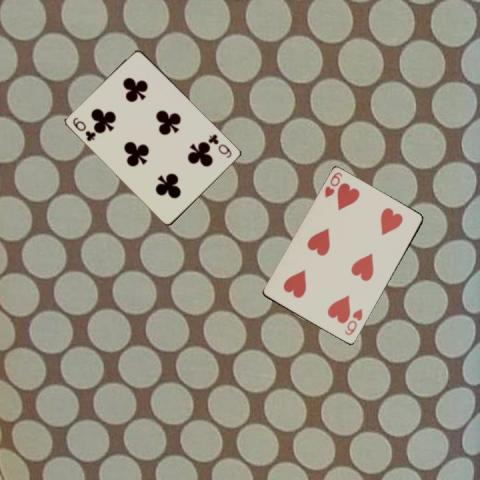6c: (206, 131, 234, 159), (70, 114, 97, 143)
6h: (341, 306, 364, 337), (321, 170, 344, 200)
